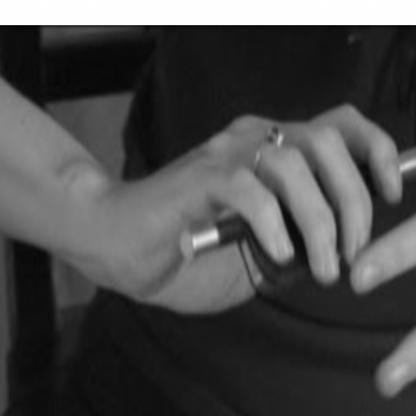good: (208, 83, 406, 293)
